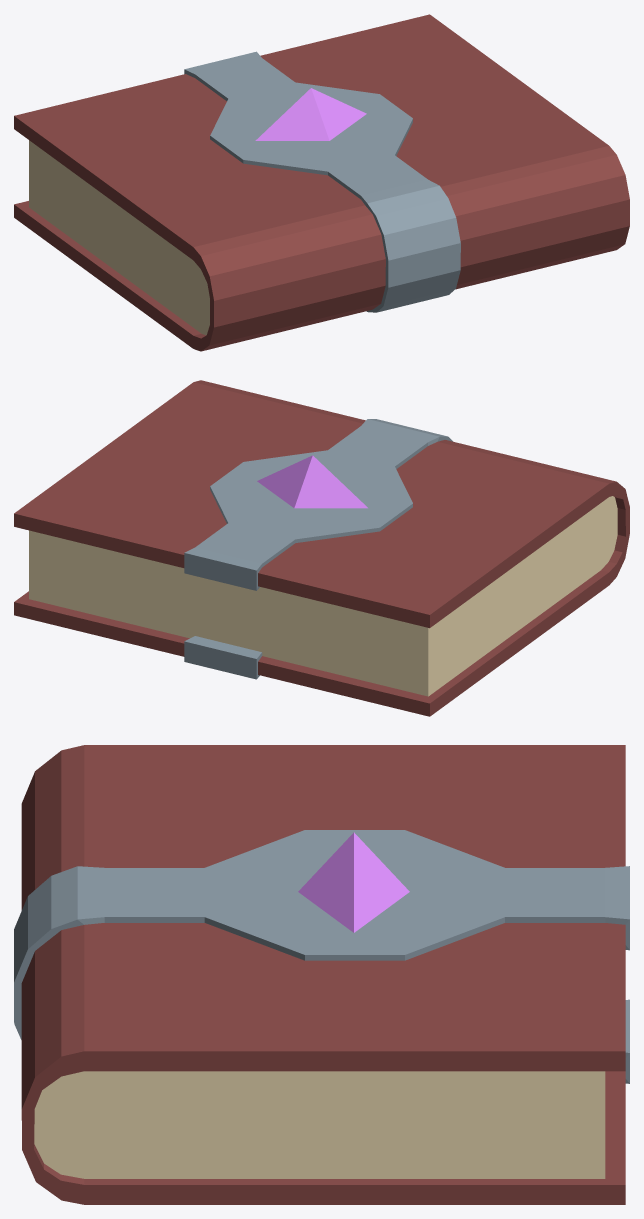
Rendered from MagicBook.fbx.
3 renders of one model, top to bottom at view 1: azimuth 30°, elevation 25°; view 2: azimuth 150°, elevation 25°; view 3: azimuth 270°, elevation 25°, orthographic. The views are drawn at different scales.
Visible parts, largest first — view 1: Junk_Grimoire; view 2: Junk_Grimoire; view 3: Junk_Grimoire.
Boxes of the visible parts, x1=… form: Junk_Grimoire: x1=14, y1=14, x2=629, y2=351; Junk_Grimoire: x1=14, y1=380, x2=629, y2=716; Junk_Grimoire: x1=14, y1=745, x2=629, y2=1204.
Bounding box in the file's own units: 1.52 × 0.5191 × 1.29.
